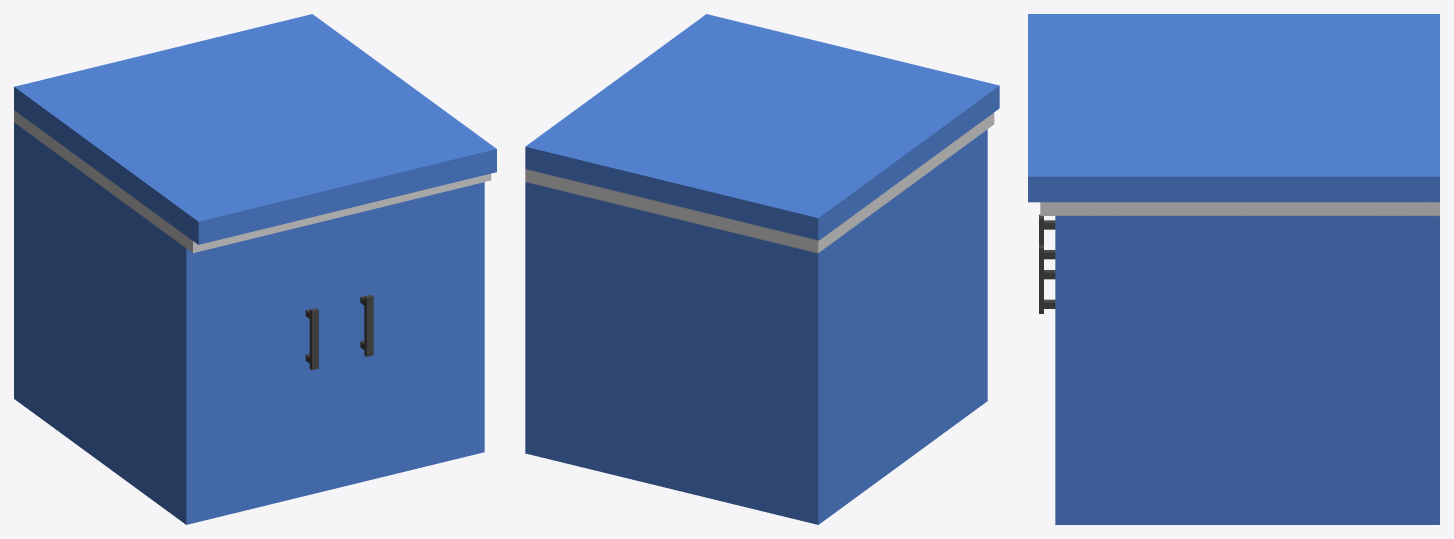
The model's file is HouseArmarioCozinha2-1.fbx.
The picture shows the model from 3 angles, left to right: view 1: azimuth 30°, elevation 25°; view 2: azimuth 150°, elevation 25°; view 3: azimuth 270°, elevation 25°; orthographic projection. The views are drawn at different scales.
Parts seen in each view (by area): view 1: HouseAmarioCozinha2-1; view 2: HouseAmarioCozinha2-1; view 3: HouseAmarioCozinha2-1.
Boxes of the visible parts, x1,y1,x2,y2 form: HouseAmarioCozinha2-1: (14,14,496,524); HouseAmarioCozinha2-1: (525,14,999,524); HouseAmarioCozinha2-1: (1028,14,1439,524).
Size of the model in its own units: 216 by 216 by 231.
1 material, 1 textured.
